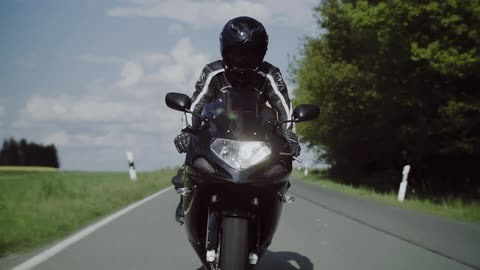helmet: (198, 14, 277, 81)
